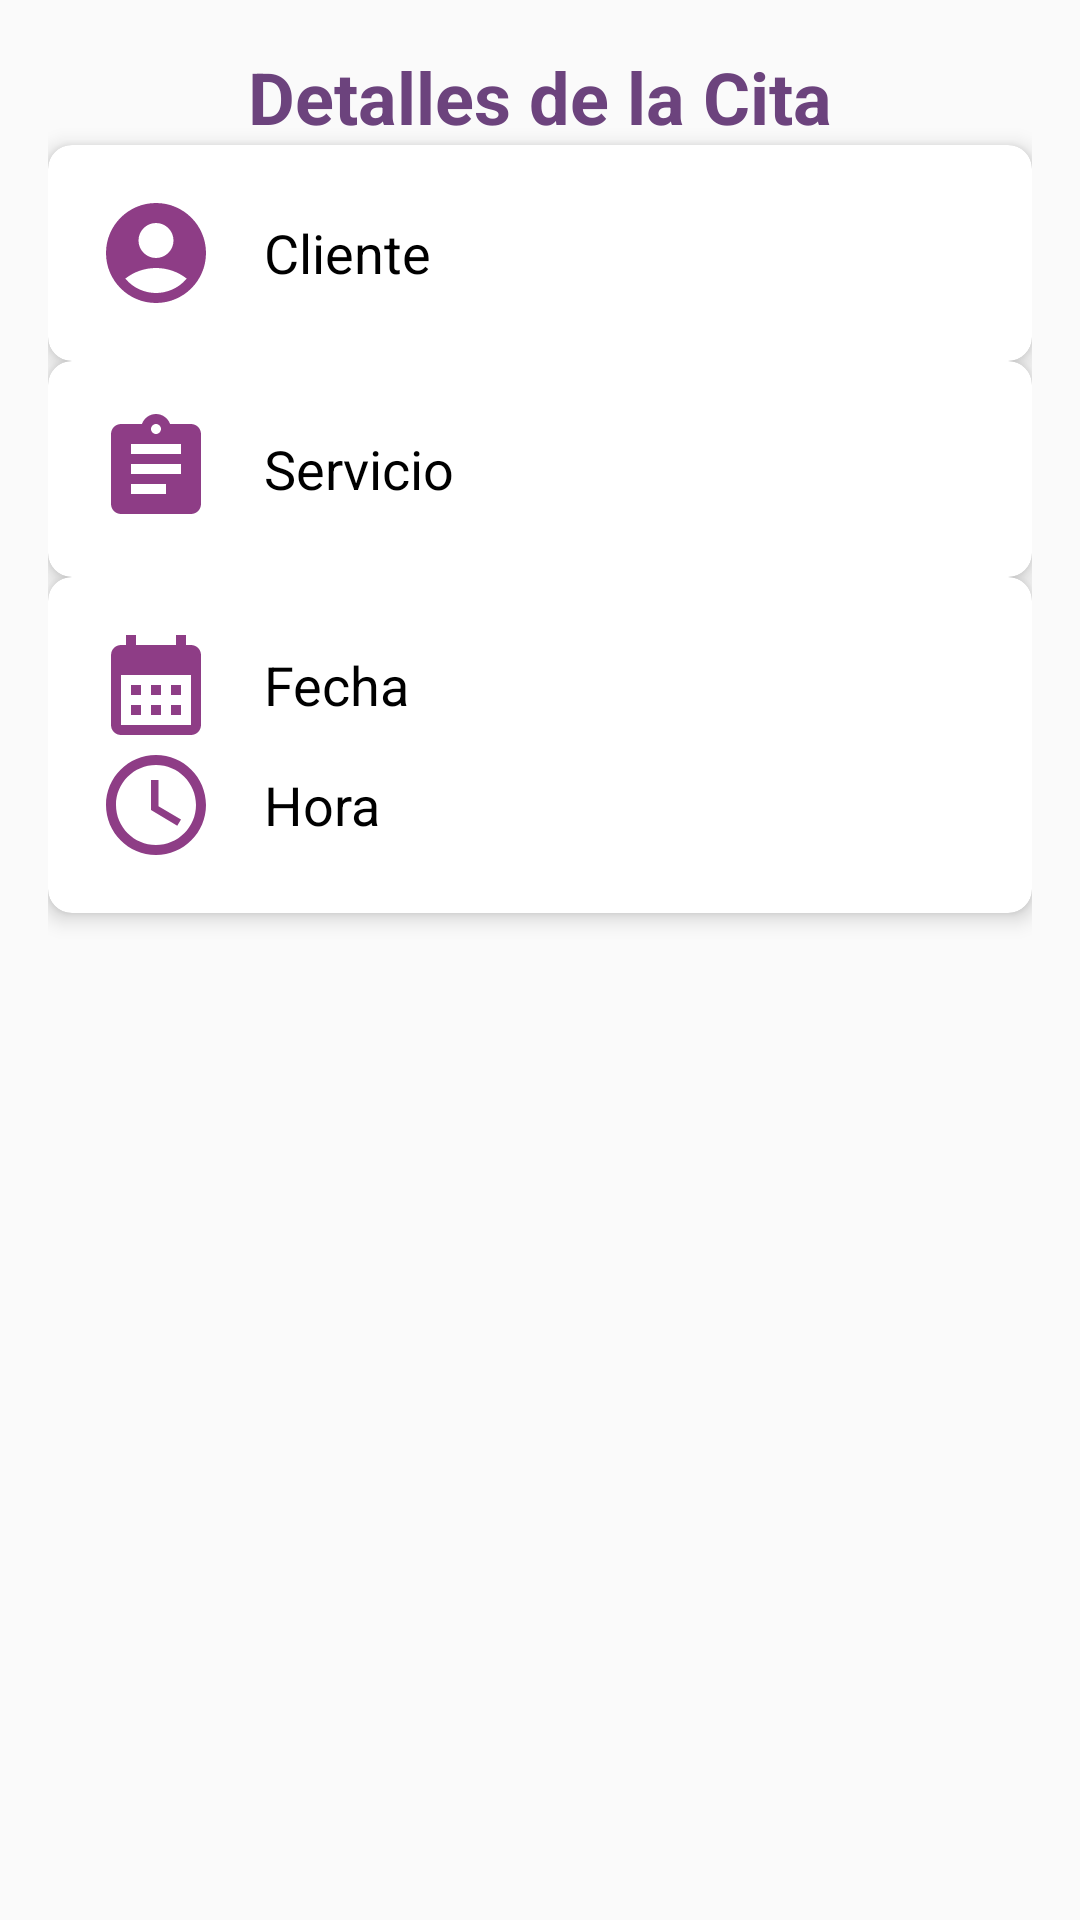

Named icons in this screenshot (1080px x 1920px) and their centers, [x,y]:
calendario: [156,685]
service: [156,464]
user: [156,253]
